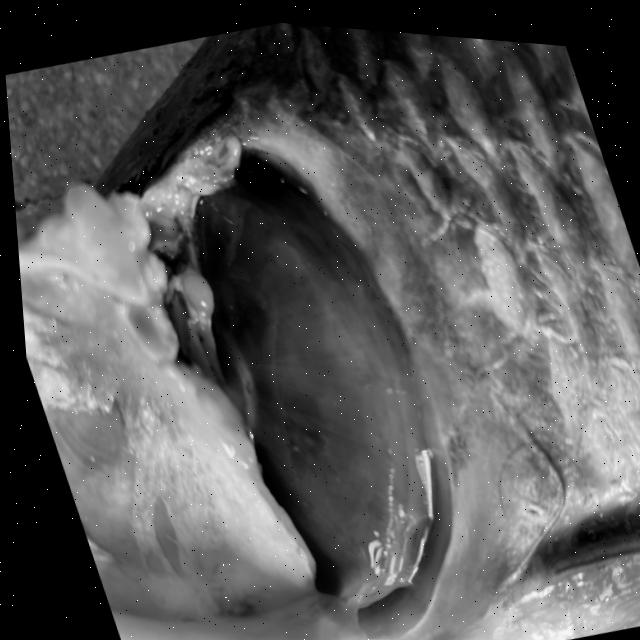Fresh: (119, 96, 491, 640)
